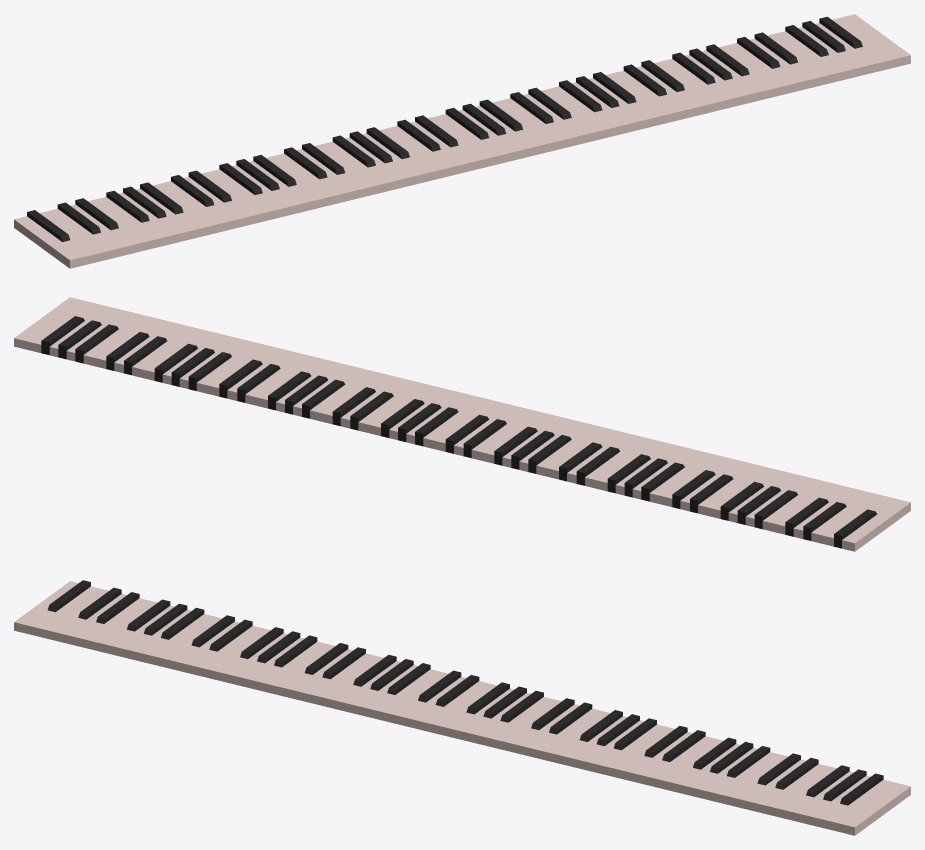
Rendered from piano.glb.
3 renders of one model, top to bottom at view 1: azimuth 30°, elevation 25°; view 2: azimuth 150°, elevation 25°; view 3: azimuth 330°, elevation 25°, orthographic.
Visible parts, largest first — view 1: key_a_0, key_c_8, key_c_1, key_c_3, key_f_2, key_f_5, key_f_3, key_f_4, key_c_5, key_c_7, key_f_7, key_c_2 (+40 smaller); view 2: key_a_0, key_c_8, key_c_1, key_c_3, key_f_5, key_f_1, key_c_4, key_c_5, key_c_7, key_f_7, key_f_2, key_f_3 (+76 smaller); view 3: key_c_8, key_b_2, key_e_3, key_e_6, key_b_5, key_b_7, key_b_1, key_e_5, key_b_6, key_b_0, key_e_4, key_b_4 (+40 smaller).
Part boxes in pixels (x1,y1,x2,y2): key_a_0: (14,216,86,268); key_c_8: (839,14,910,67); key_c_1: (46,208,118,260); key_c_3: (273,153,344,205); key_f_2: (208,169,280,221); key_f_5: (548,86,619,138); key_f_3: (321,141,393,193); key_f_4: (435,114,506,165); key_c_5: (499,98,571,150); key_c_7: (726,43,797,94); key_f_7: (774,31,846,83); key_c_2: (160,181,231,232); key_a_0: (842,498,910,551); key_c_8: (14,297,85,350); key_c_1: (811,490,878,543); key_c_3: (585,435,651,488); key_f_5: (310,368,376,421); key_f_1: (762,478,829,531); key_c_4: (471,407,538,460); key_c_5: (358,380,425,433); key_c_7: (132,325,198,377); key_f_7: (83,313,150,366); key_f_2: (649,451,716,504); key_f_3: (536,423,603,476); key_c_8: (838,782,910,835); key_b_2: (256,641,328,693); key_e_3: (305,653,376,705); key_e_6: (644,736,716,788); key_b_5: (596,724,667,776); key_b_7: (822,779,894,831); key_b_1: (143,614,214,665); key_e_5: (531,708,603,760); key_b_6: (709,752,781,804); key_b_0: (30,586,101,638); key_e_4: (418,681,489,732); key_b_4: (483,697,554,748).
Size of the model in its own units: 52 by 0.75 by 6.
